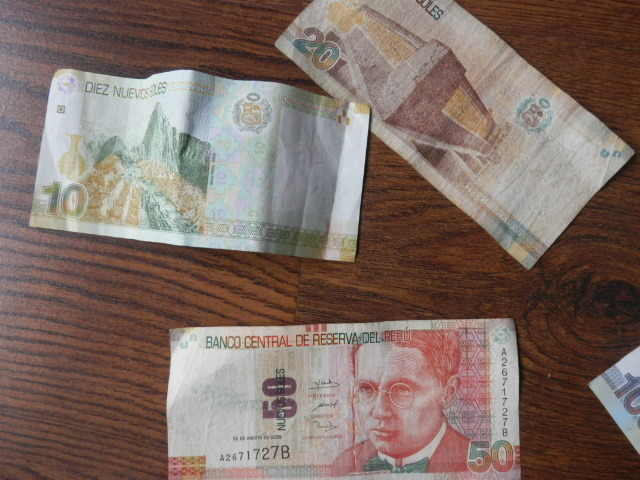B10: (32, 67, 374, 267)
B20: (282, 1, 634, 162)
B50: (158, 317, 521, 477)
